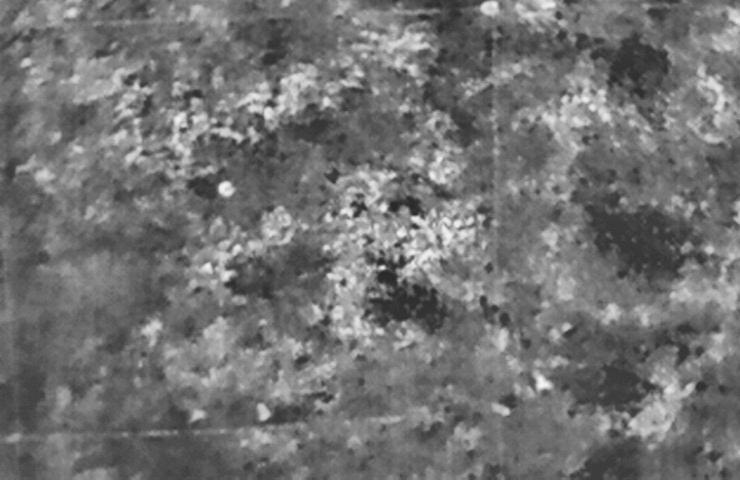landmines: (215, 178, 238, 200)
